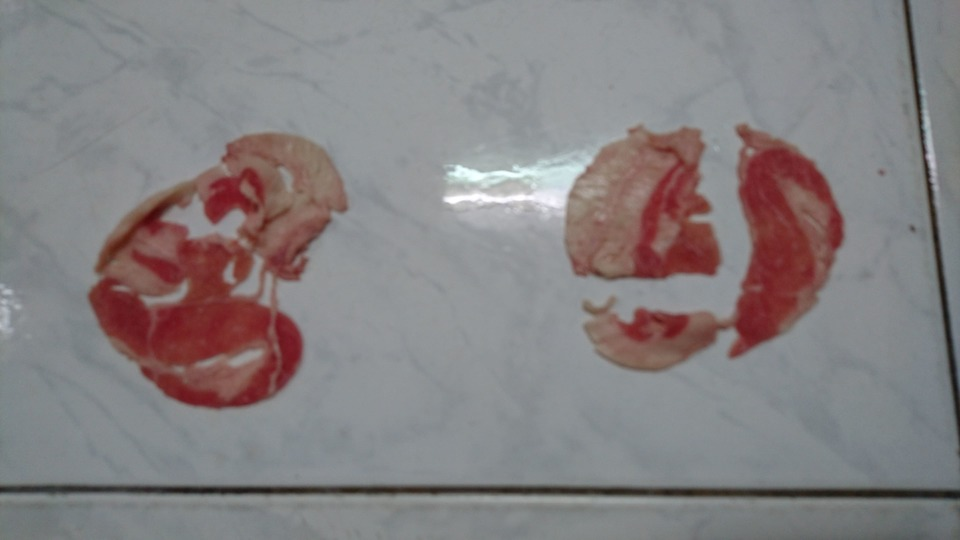restructured meat: (91, 130, 350, 415), (566, 117, 845, 373)
